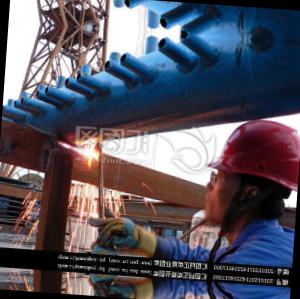helmet: (190, 96, 300, 244)
